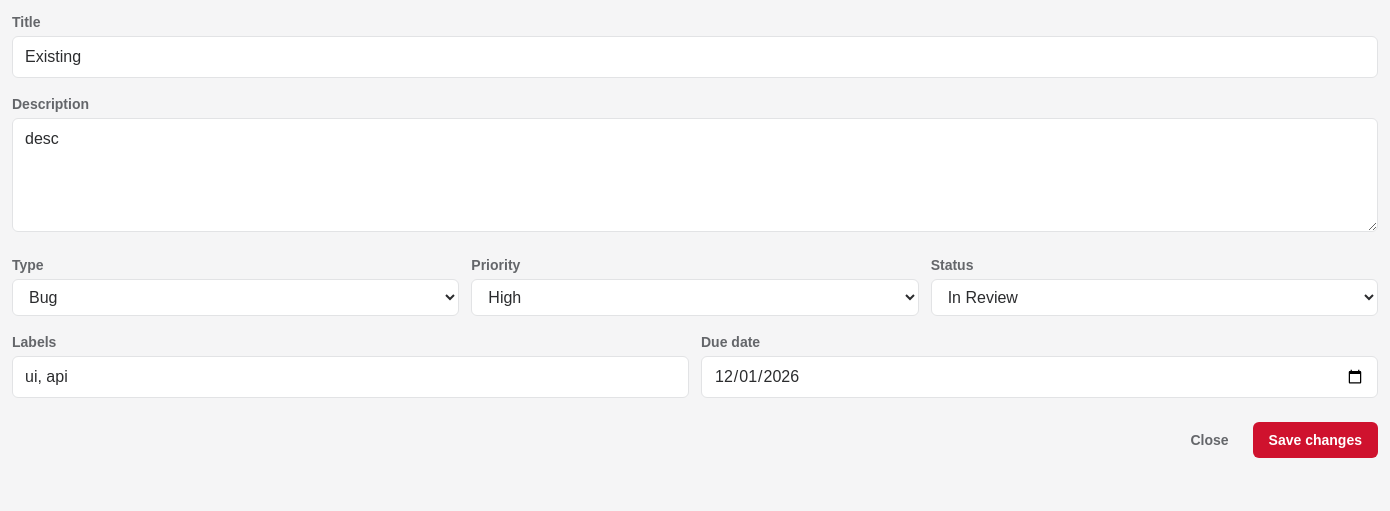
Scenario: ItemForm › confirms a successful save and uses a custom cancel label
This screenshot has width=1390, height=511.
Click the button "Save changes".
click(1315, 440)  # box x1=1253 y1=422 x2=1378 y2=458
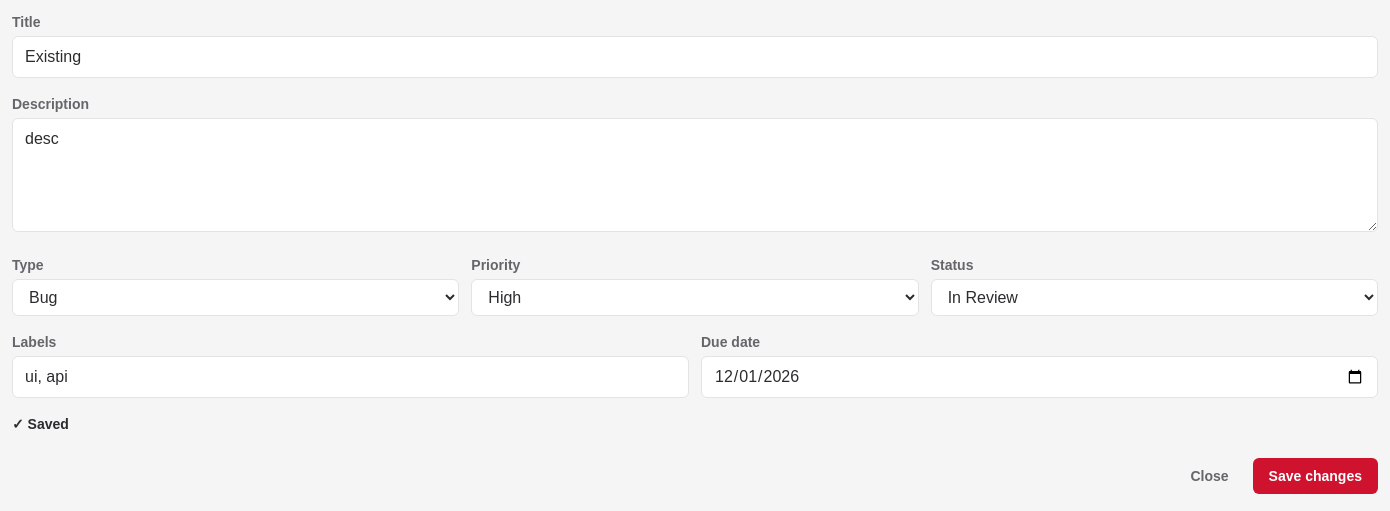
Expected: the button "Close" is shown, x1=1174 y1=458 x2=1245 y2=494
Now the message shows "Saved", box x1=12 y1=416 x2=69 y2=432
Type "!" into the field labelled "Title".
click(695, 57); type("!")  # box x1=12 y1=36 x2=1378 y2=78
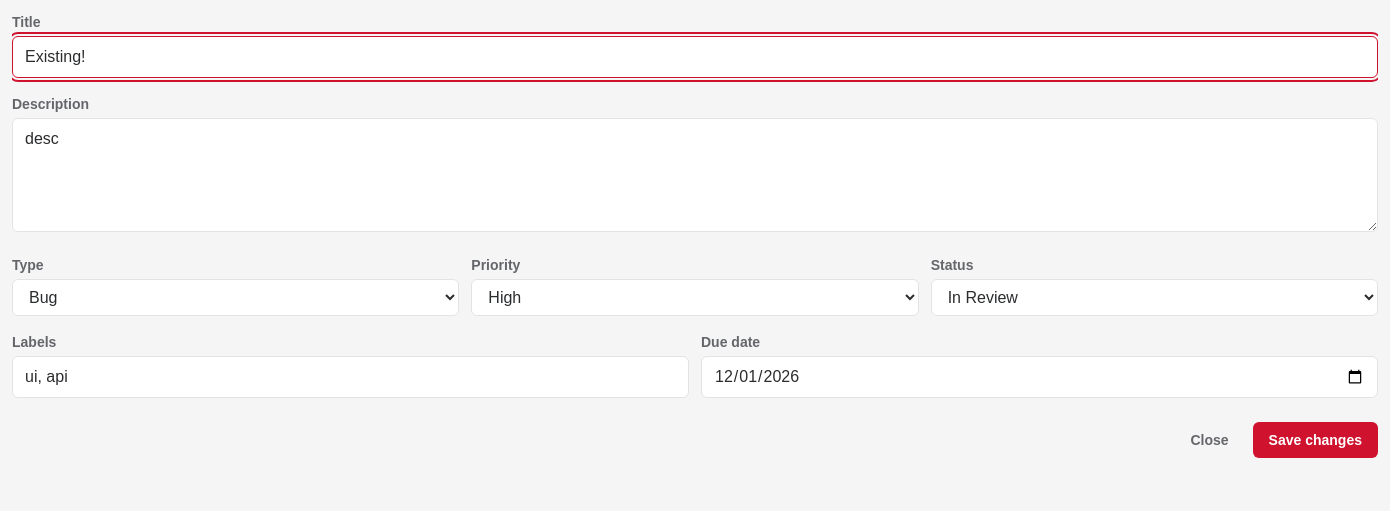
Now the message "✓ Saved" is gone
